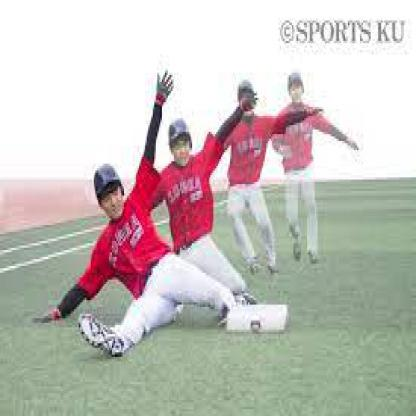Fall_Down: (32, 67, 243, 362)
